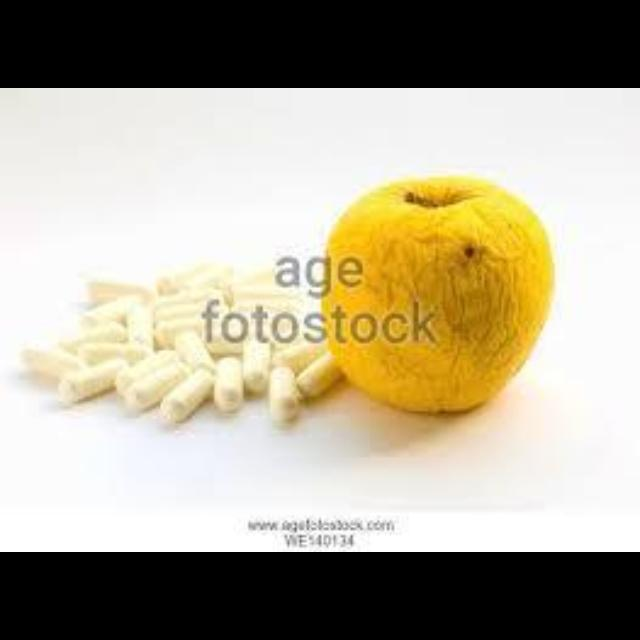apple: (319, 178, 552, 412)
